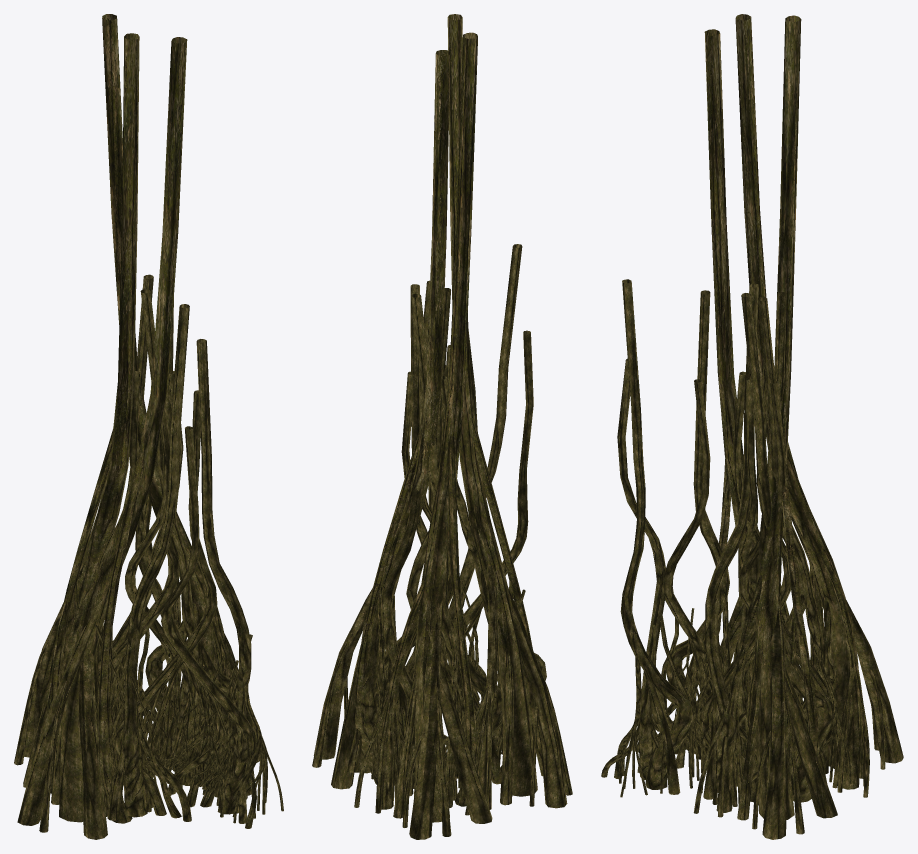
3 views of the same model, side by side, from view 1: azimuth 30°, elevation 25°; view 2: azimuth 150°, elevation 25°; view 3: azimuth 270°, elevation 25° (orthographic). The views are drawn at different scales.
Visible parts, largest first — view 1: mesh0; view 2: mesh0; view 3: mesh0.
Part boxes in pixels (box(x1,y1,x2,y2)): mesh0: box(14, 14, 283, 839); mesh0: box(312, 14, 572, 839); mesh0: box(601, 14, 903, 839).
Bounding box in the file's own units: 113 × 330 × 120.
